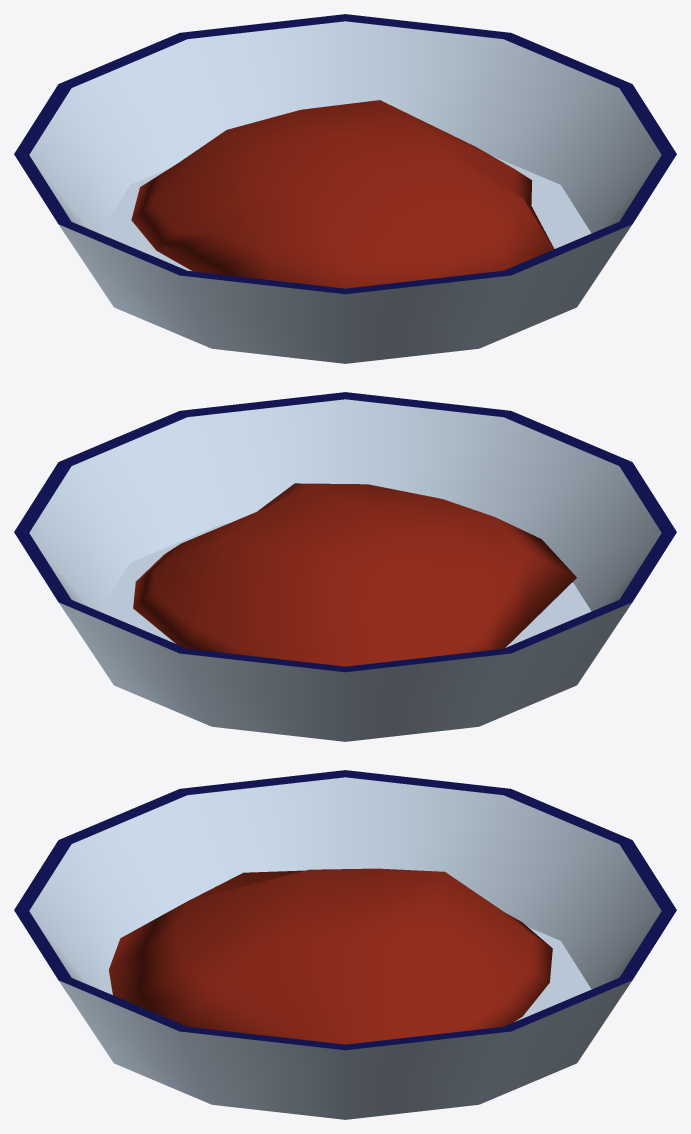
File: bumbu rendang.fbx
3 views of the same model, one above another, from view 1: azimuth 30°, elevation 25°; view 2: azimuth 150°, elevation 25°; view 3: azimuth 270°, elevation 25° (orthographic).
Parts seen in each view (by area): view 1: bumbu rendang; view 2: bumbu rendang; view 3: bumbu rendang.
Part boxes in pixels (x1=…): bumbu rendang: x1=14, y1=14, x2=676, y2=363; bumbu rendang: x1=14, y1=392, x2=676, y2=741; bumbu rendang: x1=14, y1=770, x2=676, y2=1119.
Bounding box in the file's own units: 18.31 × 3.24 × 18.31.
